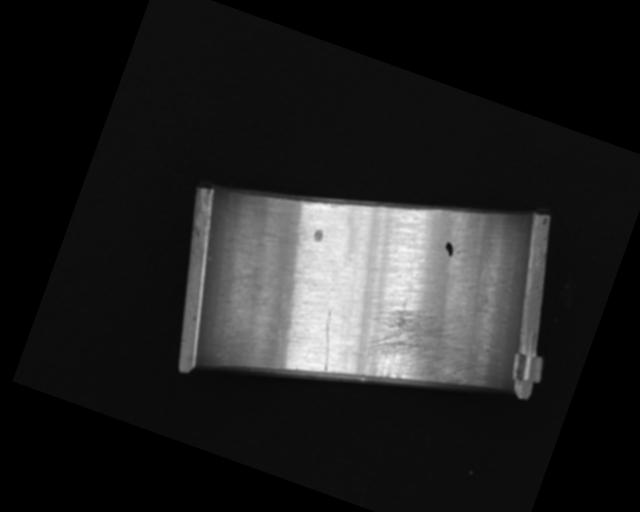blot: (442, 241, 456, 258)
bruise: (311, 227, 325, 243)
nick: (203, 192, 271, 284), (308, 309, 347, 372)
scratch: (350, 292, 484, 411)
